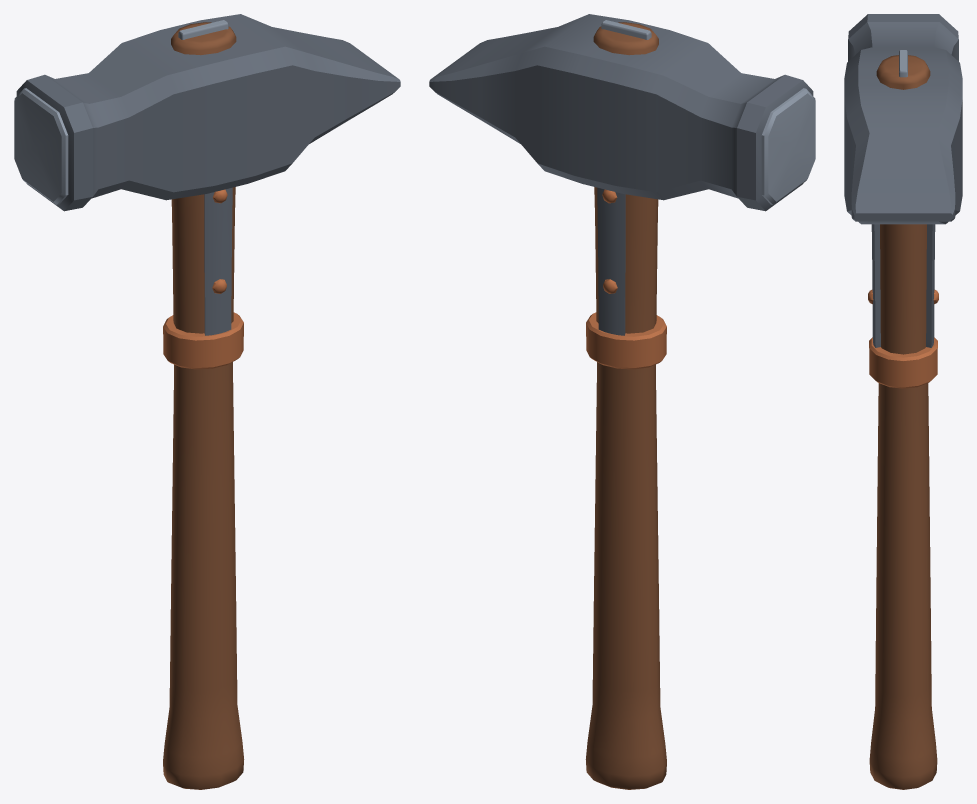
The model's file is Hammer.fbx.
3 renders of one model, left to right at view 1: azimuth 30°, elevation 25°; view 2: azimuth 150°, elevation 25°; view 3: azimuth 270°, elevation 25°, orthographic. The views are drawn at different scales.
Visible parts, largest first — view 1: Hammer_Head, Hammer_Handle, Hammer_Face, Hammer_Langets, Hammer_Collar; view 2: Hammer_Head, Hammer_Handle, Hammer_Face, Hammer_Langets, Hammer_Collar; view 3: Hammer_Handle, Hammer_Head, Hammer_Collar, Hammer_Langets, Hammer_Wedge.
Boxes of the visible parts, box(x1,y1,x2,y2) form: Hammer_Head: box(16, 14, 400, 211); Hammer_Handle: box(163, 22, 244, 789); Hammer_Face: box(14, 88, 68, 204); Hammer_Langets: box(204, 187, 232, 335); Hammer_Collar: box(163, 189, 243, 369); Hammer_Head: box(429, 14, 813, 211); Hammer_Handle: box(585, 22, 666, 789); Hammer_Face: box(761, 88, 815, 204); Hammer_Langets: box(597, 187, 625, 335); Hammer_Collar: box(586, 189, 666, 369); Hammer_Handle: box(869, 55, 937, 789); Hammer_Head: box(844, 14, 962, 224); Hammer_Collar: box(868, 290, 938, 388); Hammer_Langets: box(871, 224, 935, 347); Hammer_Wedge: box(899, 50, 907, 77).
Size of the model in its own units: 19.53 by 41.38 by 6.18.
